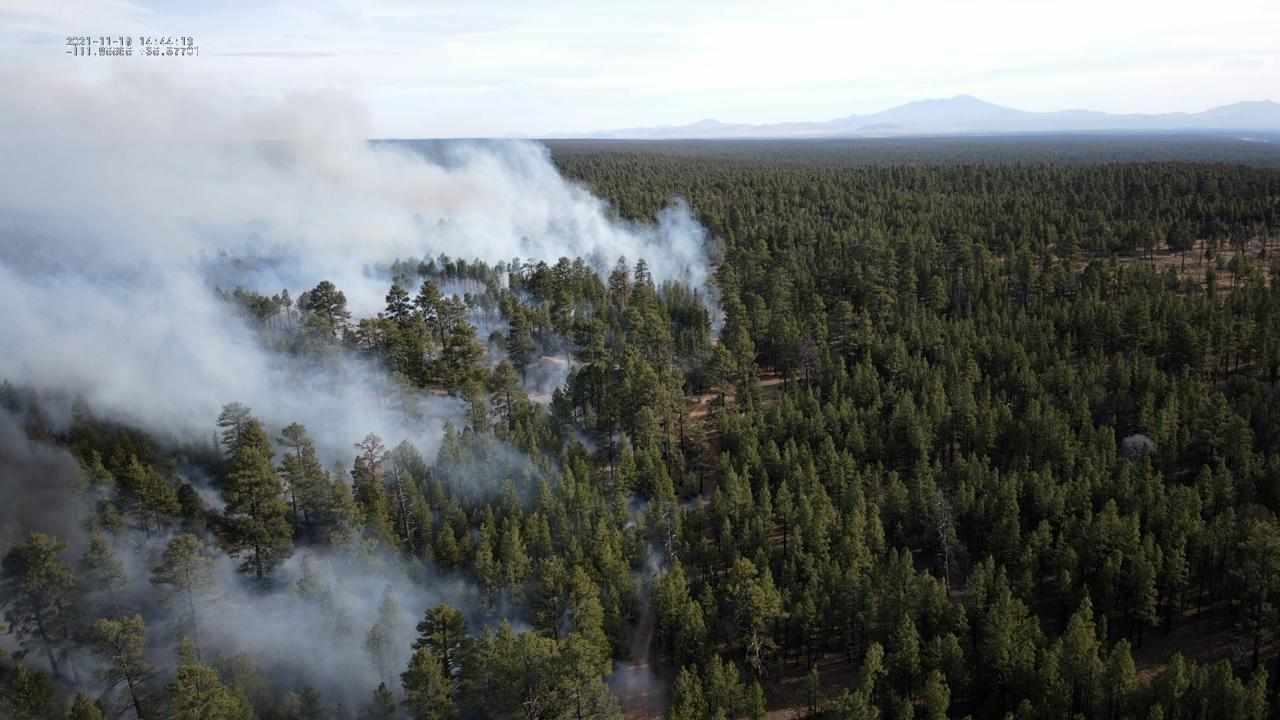smoke: (0, 50, 726, 720)
